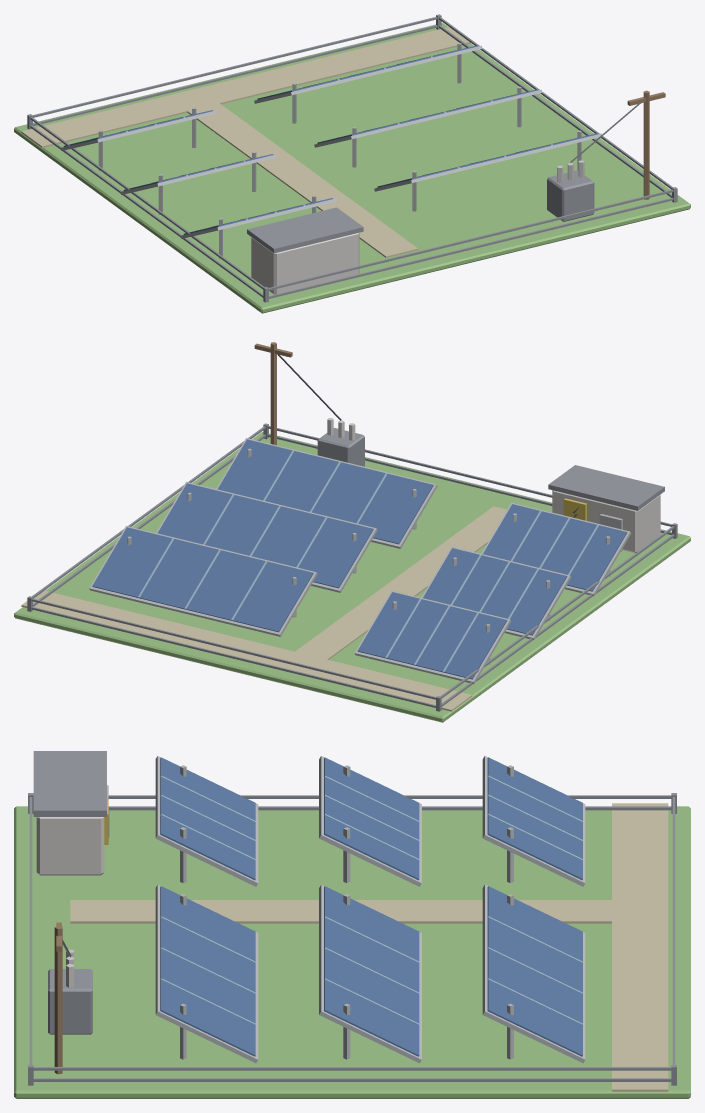
Rendered from energia__usina_solar.glb.
3 renders of one model, top to bottom at view 1: azimuth 30°, elevation 25°; view 2: azimuth 150°, elevation 25°; view 3: azimuth 270°, elevation 25°, orthographic. The views are drawn at different scales.
Parts seen in each view (by area): view 1: energia__usina_solar; view 2: energia__usina_solar; view 3: energia__usina_solar.
Boxes of the visible parts, box(x1,y1,x2,y2) form: energia__usina_solar: box(14, 14, 690, 313); energia__usina_solar: box(14, 342, 690, 722); energia__usina_solar: box(14, 751, 690, 1098).
Bounding box in the file's own units: 6 × 1.5 × 6.
